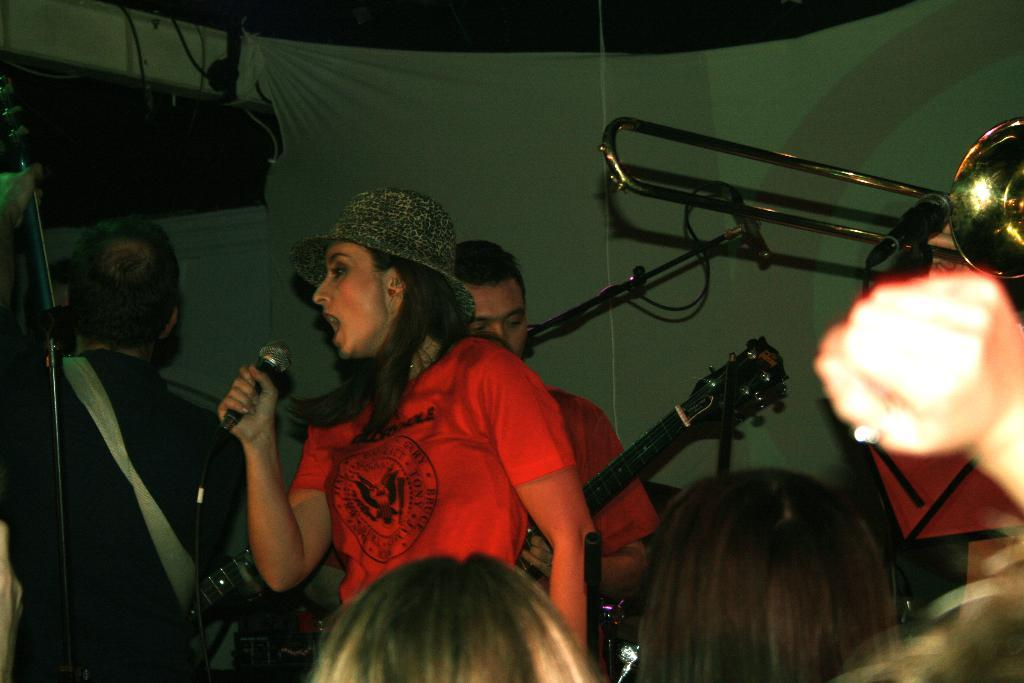Hat: (288, 189, 474, 334)
